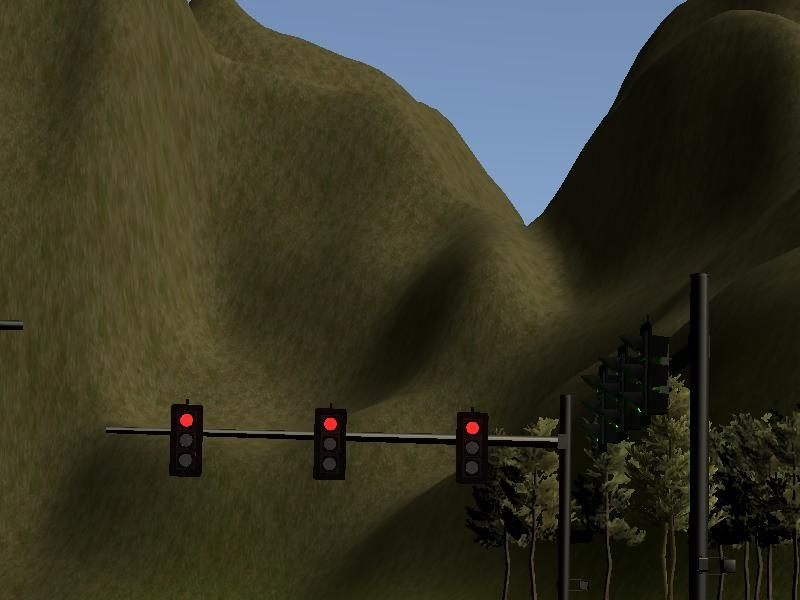red: (454, 411, 488, 484), (170, 405, 202, 477), (314, 409, 344, 480)
